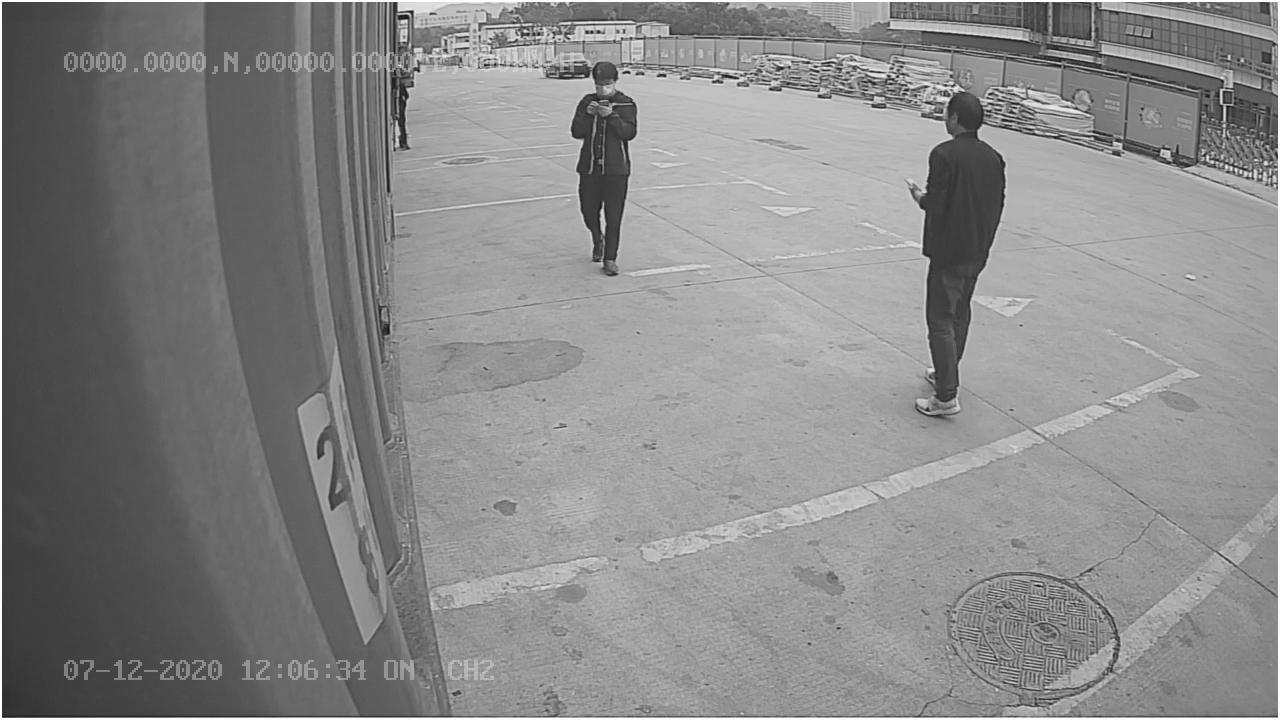person: (899, 90, 1010, 416)
